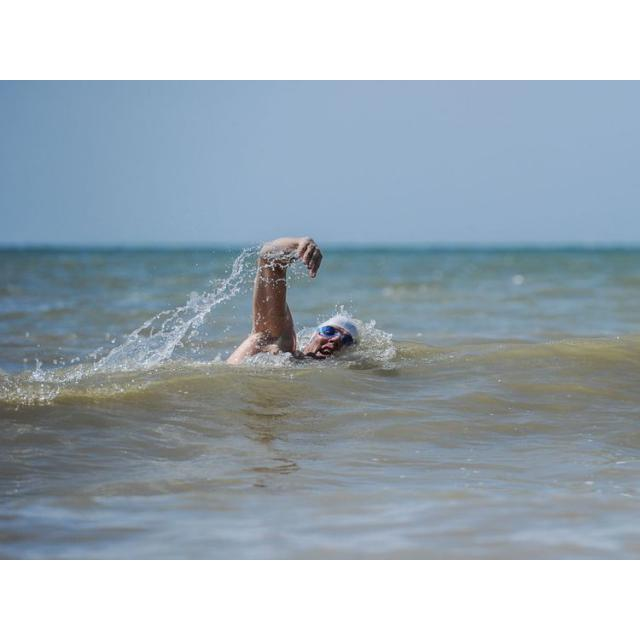human: (220, 236, 361, 373)
